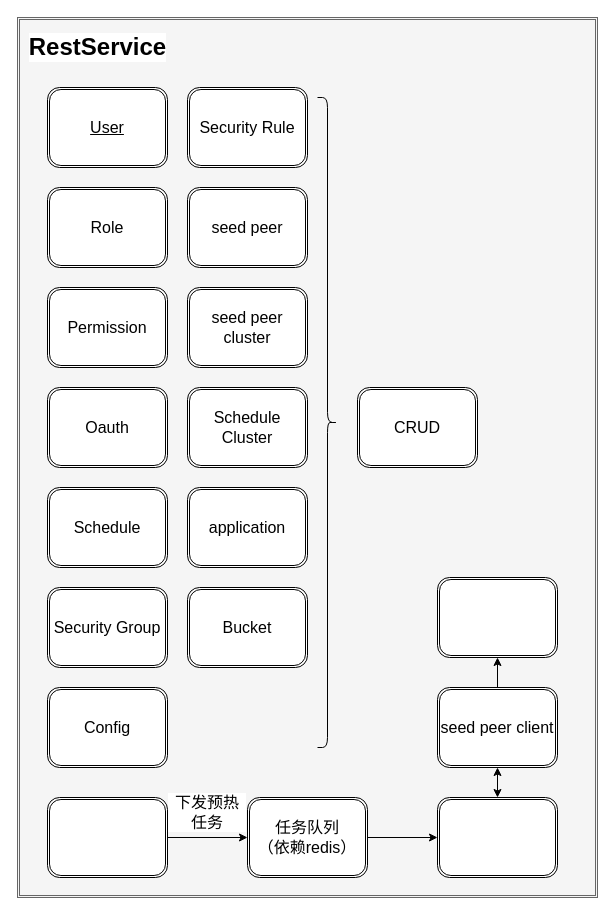
Some shapes in this 615 by 915 pixel diagram are drawn without their labels. The centre of each missing label's shape, as x and y in pixels:
Job: pixel 107 837
Schedule Job Worker: pixel 497 837
seed peer 做种: pixel 497 617
